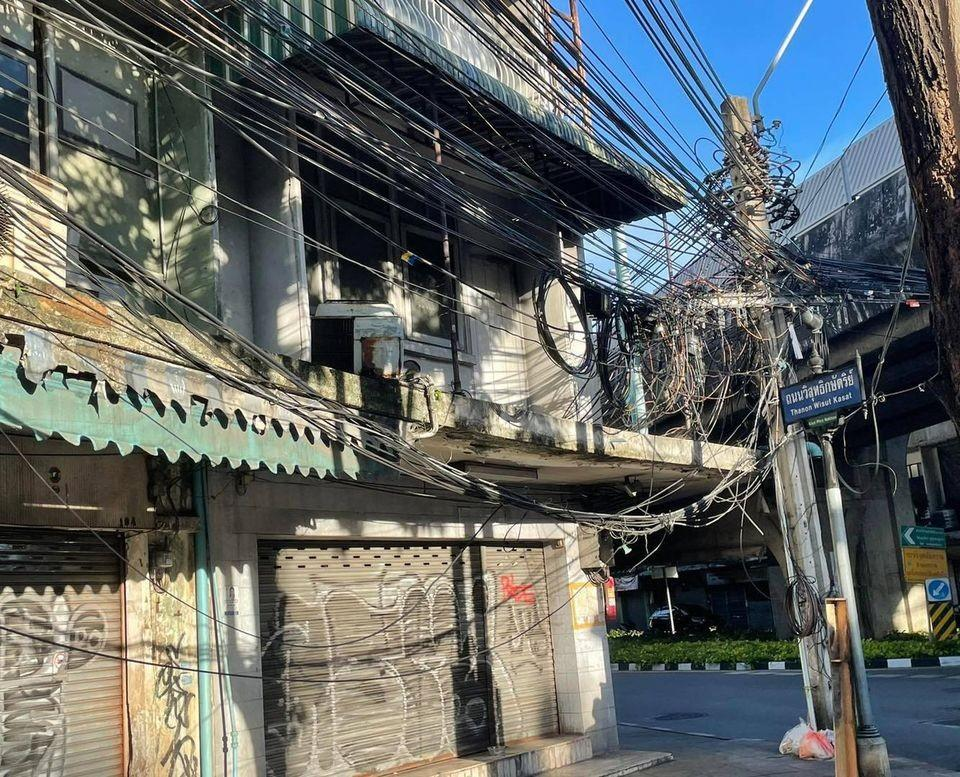wires-only: (7, 0, 754, 424), (0, 438, 776, 674)
